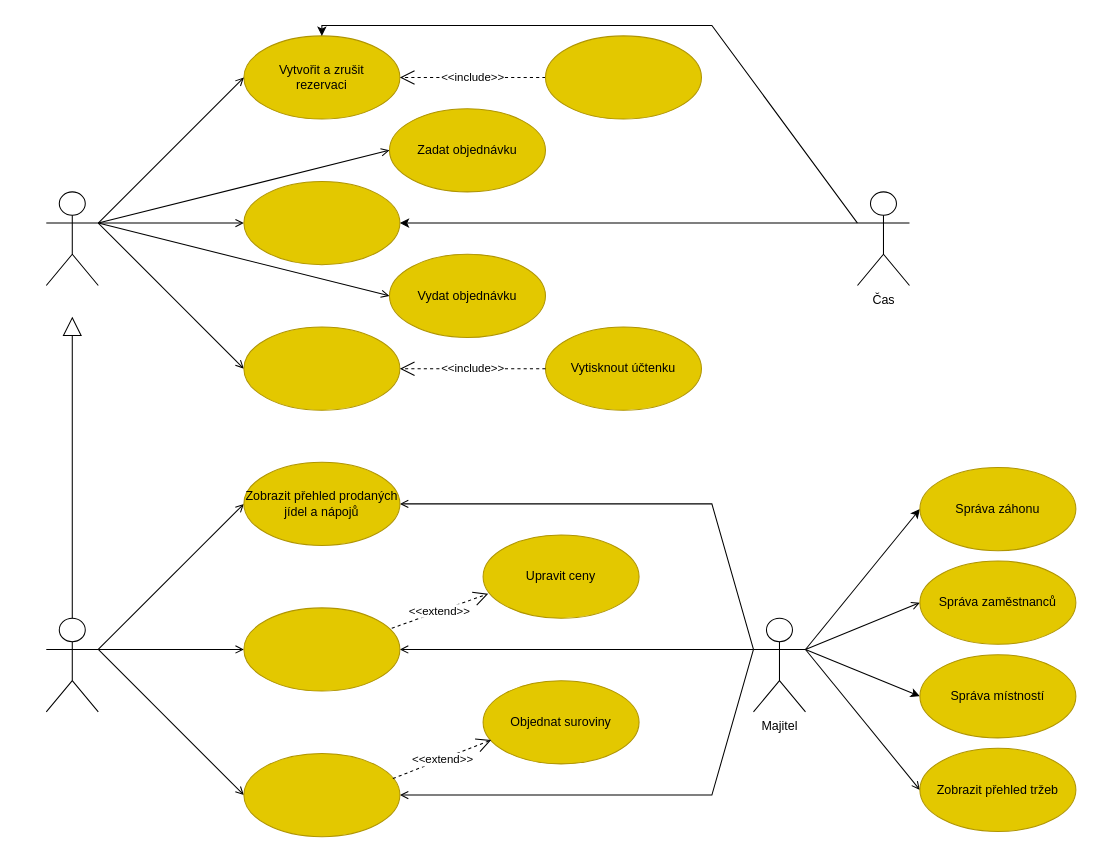
This 1094x855 diagram has some shape labels left out. Each missing label, with the centre of its shape:
"OdpovědnýVedoucí" goes at (x=71, y=664).
"Upravit menu" goes at (x=321, y=649).
"Zadat záznam o platbě" goes at (x=321, y=368).
"Zaměstnanec" goes at (x=71, y=238).
"Zjistit dostupnost" goes at (x=622, y=77).
"Zobrazit obsah skladu" goes at (x=321, y=794).
"Zrušit objednávku" goes at (x=321, y=222).
